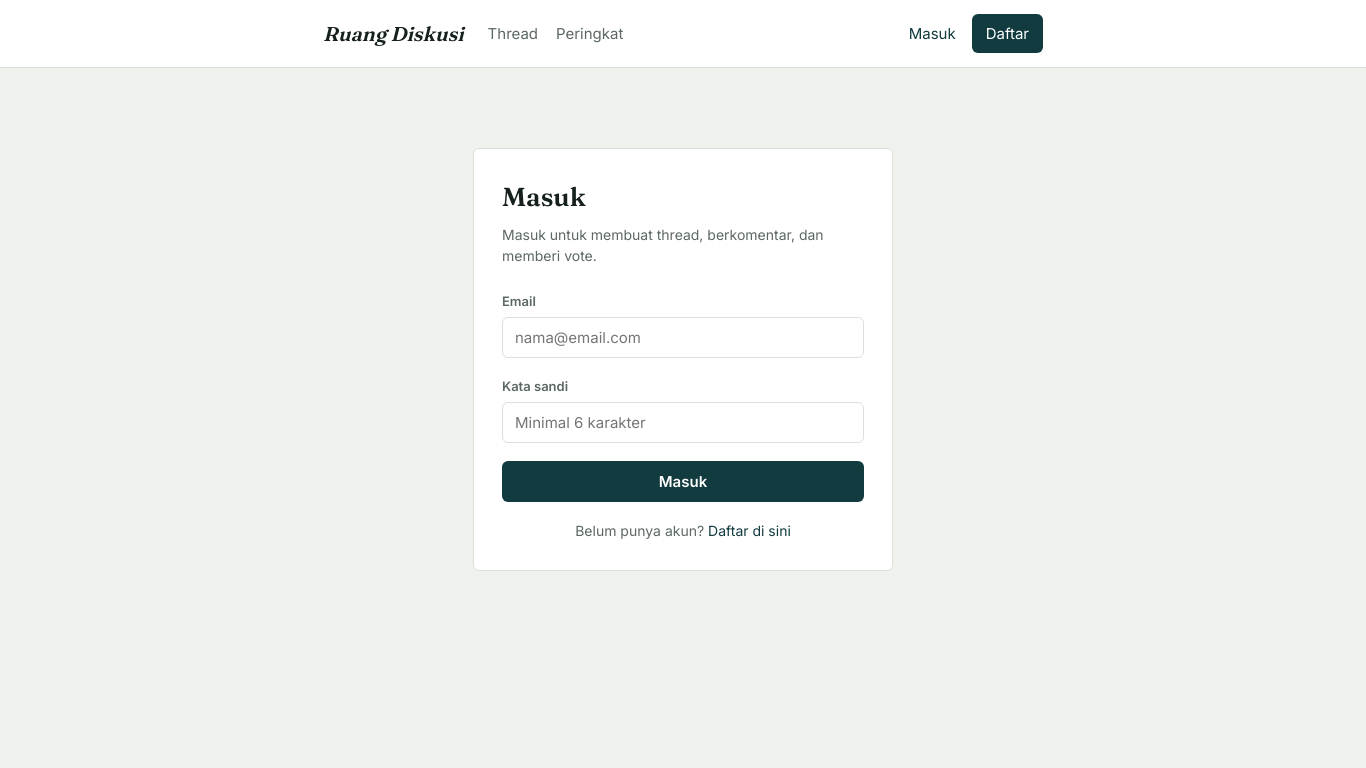
Test: Login flow › should show validation alerts when email and password are not filled in
What coordinates should you click on to do the following:
click the submit button
I would click on:
 (683, 482)
Its box is [502, 461, 864, 502].
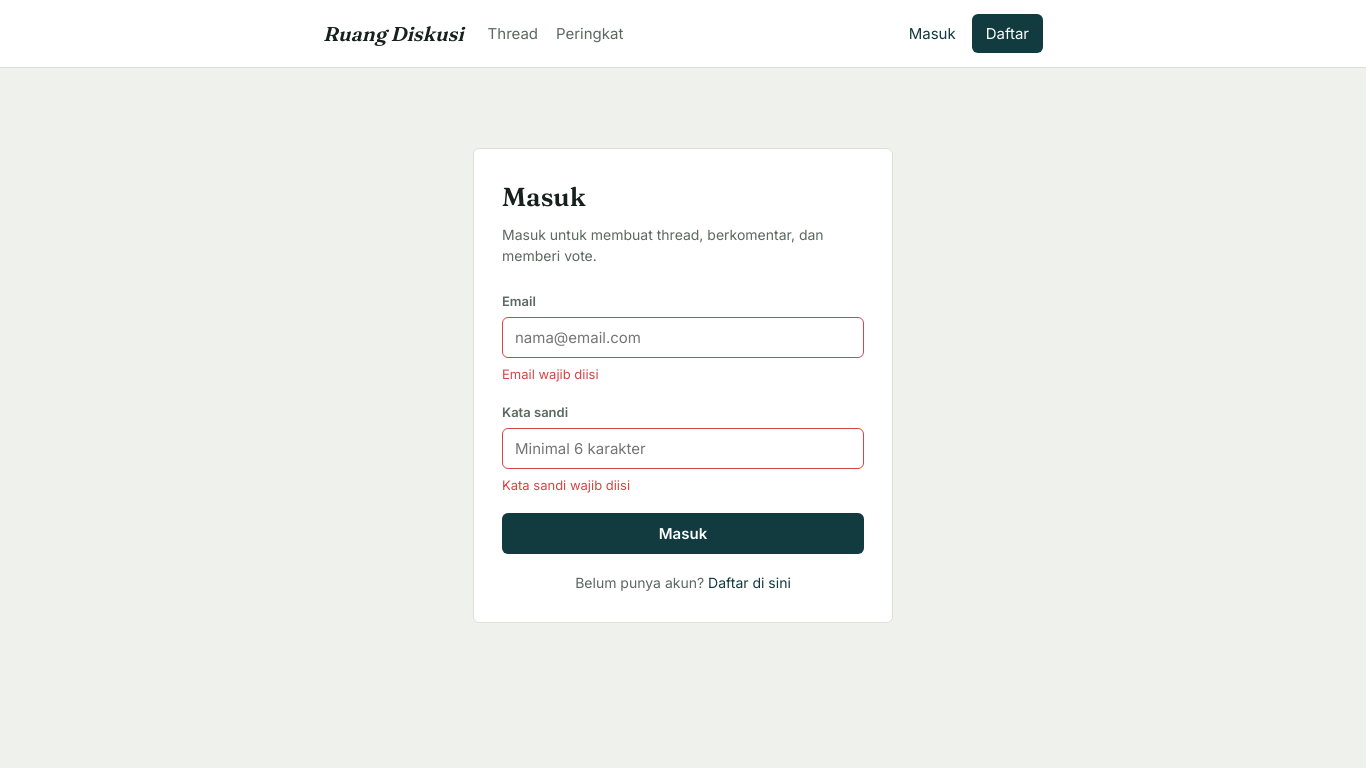
Now the text "Email wajib diisi" is shown, box [502, 366, 599, 382]
Now the text "Kata sandi wajib diisi" is shown, box [502, 477, 630, 493]
